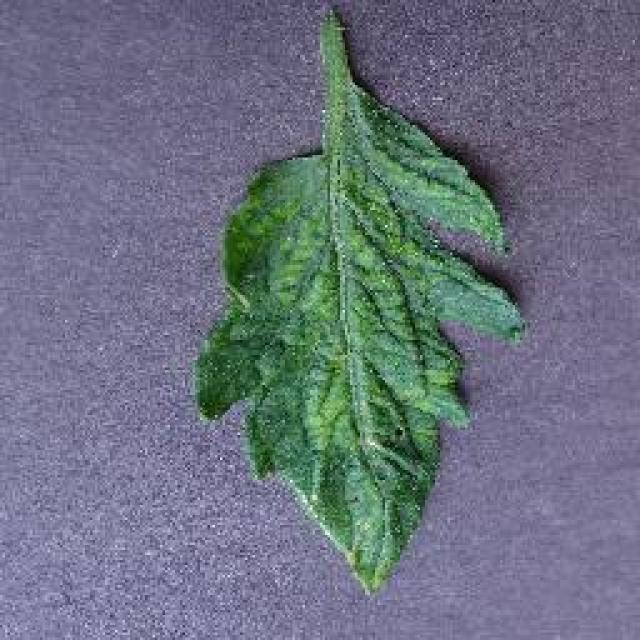Tomato___Tomato_mosaic_virus: (195, 20, 520, 588)
